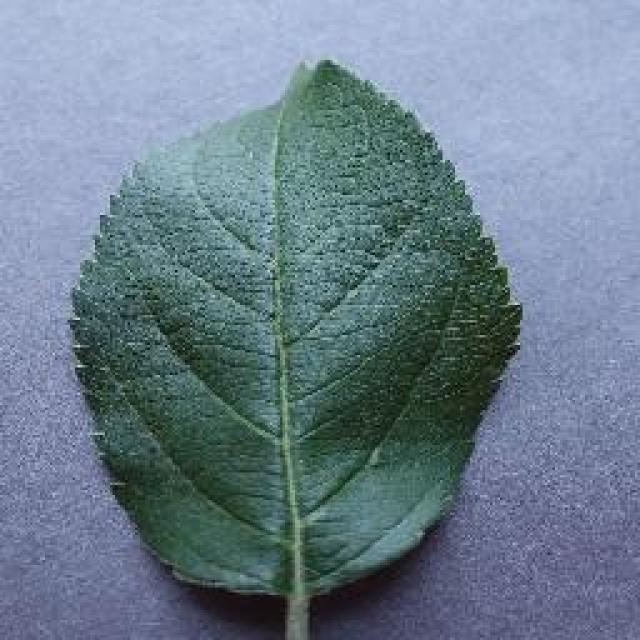apple healthy: (65, 55, 523, 635)
